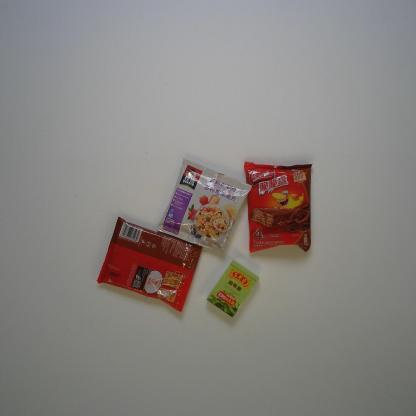Candy: (206, 258, 260, 318)
Dessert: (96, 216, 204, 314), (242, 160, 312, 254)
Instant Drink: (156, 158, 253, 254)
